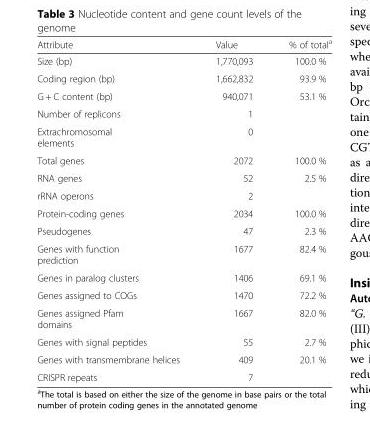table: (36, 36, 331, 382)
table column: (36, 36, 196, 382), (196, 36, 270, 382), (270, 36, 331, 382)
table column header: (36, 36, 331, 52)
table row: (36, 122, 331, 151), (36, 239, 331, 268), (36, 303, 331, 332), (36, 69, 331, 87), (36, 104, 331, 122), (36, 168, 331, 186), (36, 186, 331, 204), (36, 221, 331, 239), (36, 268, 331, 286), (36, 332, 331, 350), (36, 350, 331, 368), (36, 52, 331, 69), (36, 87, 331, 104), (36, 151, 331, 168), (36, 204, 331, 221), (36, 286, 331, 303), (36, 36, 331, 52), (36, 368, 331, 382)
